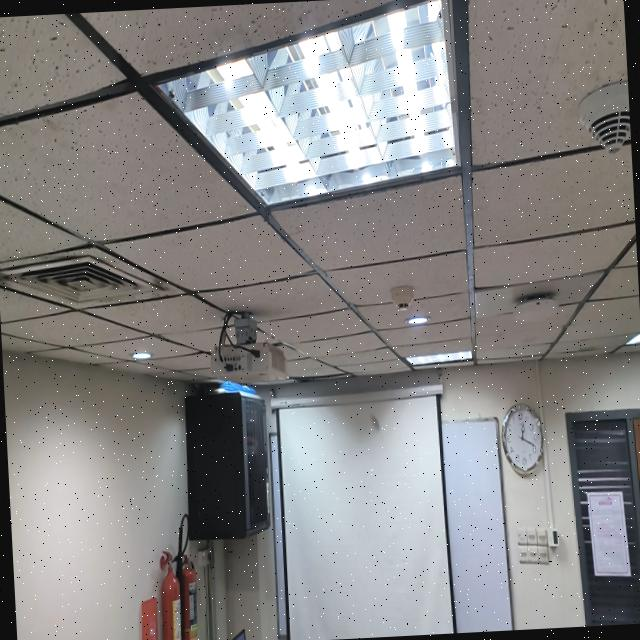Fire Extinguisher: (177, 507, 202, 640), (157, 542, 181, 640)
Light: (156, 2, 464, 196), (402, 348, 474, 368), (404, 314, 428, 328), (130, 349, 150, 360)
Projector: (206, 324, 289, 392)
